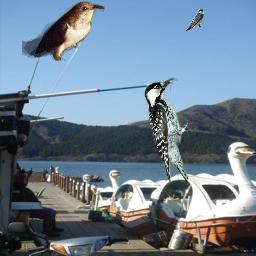Cuckoo: (22, 1, 105, 61)
Swallow: (185, 8, 204, 31)
Woodpecker: (144, 77, 188, 185)
